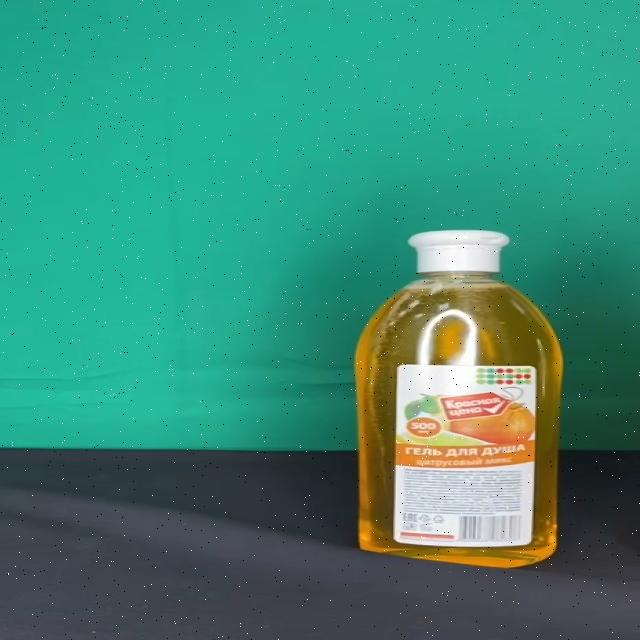Bottle: (358, 230, 562, 569)
Cap: (408, 231, 510, 272)
